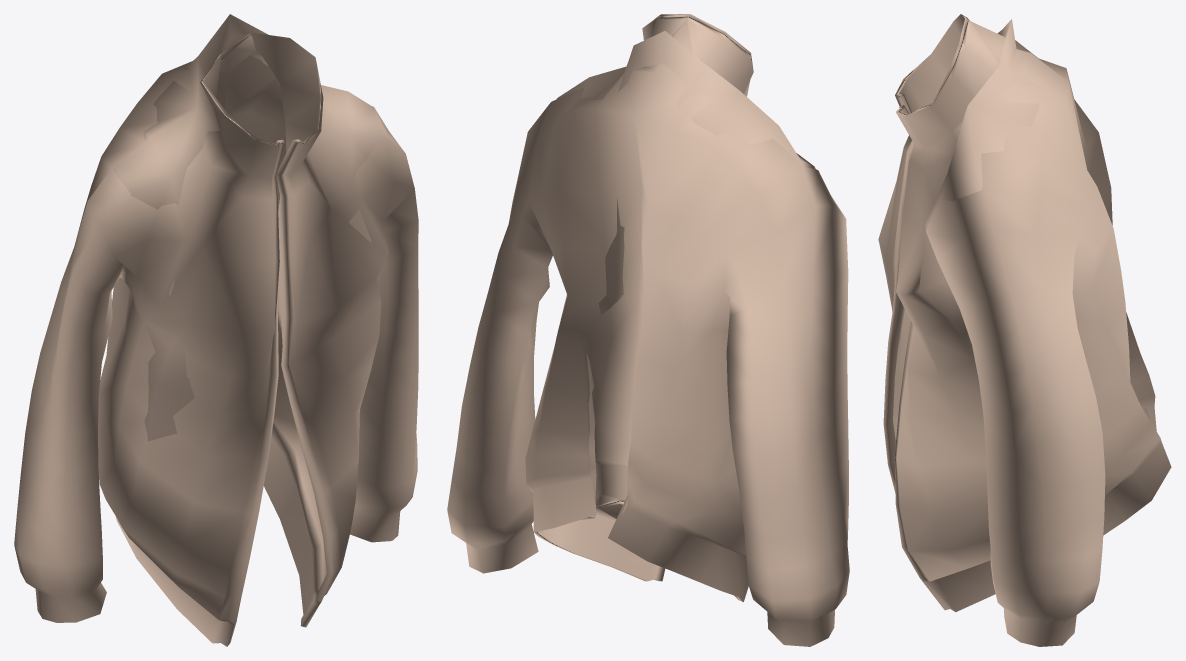
Rendered from jacket.fbx.
3 views of the same model, side by side, from view 1: azimuth 30°, elevation 25°; view 2: azimuth 150°, elevation 25°; view 3: azimuth 270°, elevation 25° (orthographic). The views are drawn at different scales.
Parts seen in each view (by area): view 1: SportsJacket_SportsJacket; view 2: SportsJacket_SportsJacket; view 3: SportsJacket_SportsJacket.
Boxes of the visible parts, x1=… form: SportsJacket_SportsJacket: x1=14, y1=14, x2=418, y2=646; SportsJacket_SportsJacket: x1=447, y1=14, x2=849, y2=646; SportsJacket_SportsJacket: x1=878, y1=14, x2=1171, y2=646.
Size of the model in its own units: 108 by 158 by 73.5.
